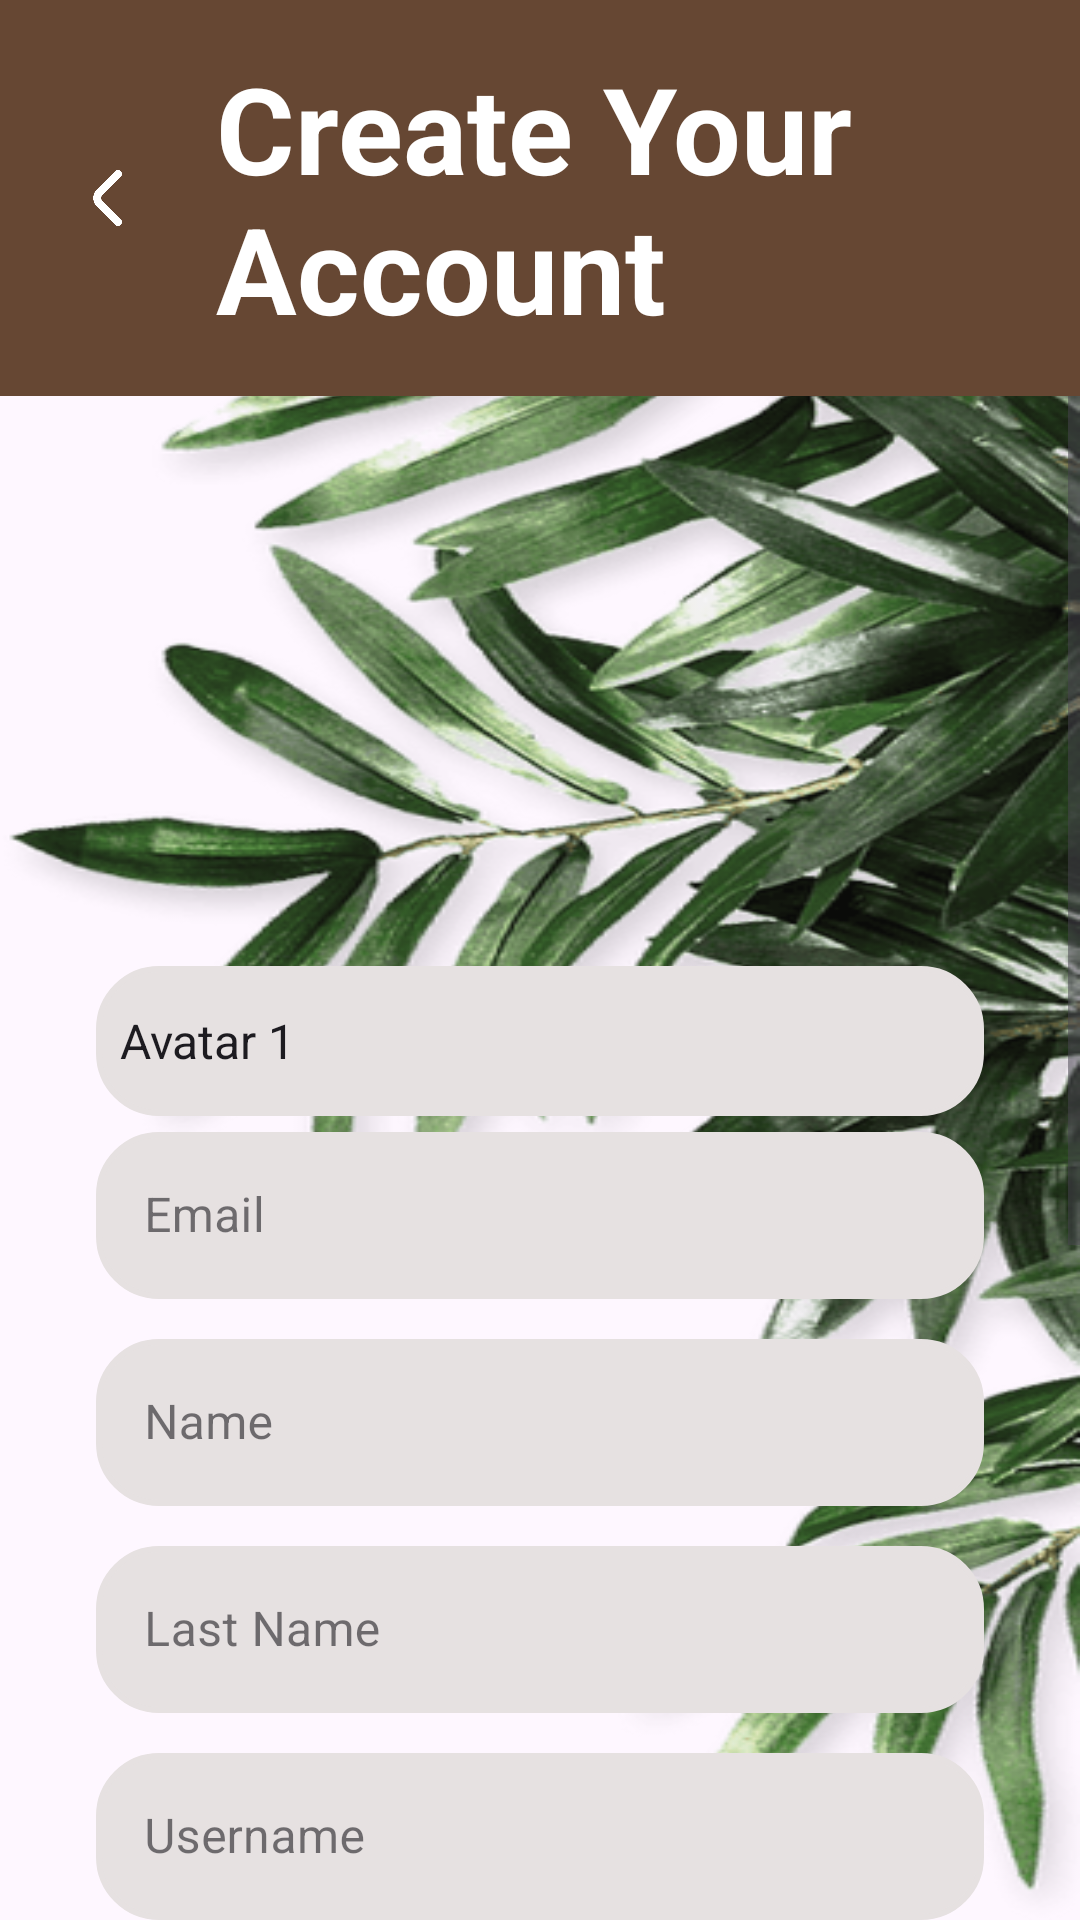

Screen size 1080px×1920px. Icon name, then its center in pixels as (x,y):
Back: (107,198)
